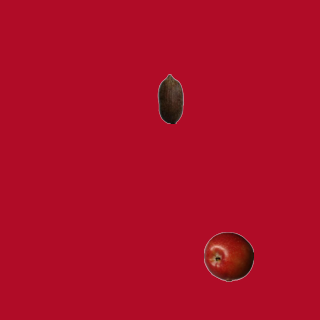Apple Braeburn: (203, 231, 253, 281)
Nut Pecan: (145, 73, 195, 123)
